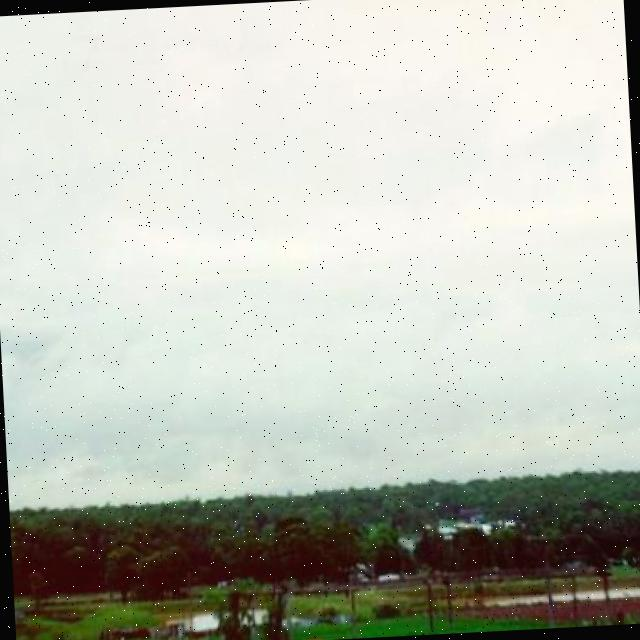St: (1, 1, 640, 443)
